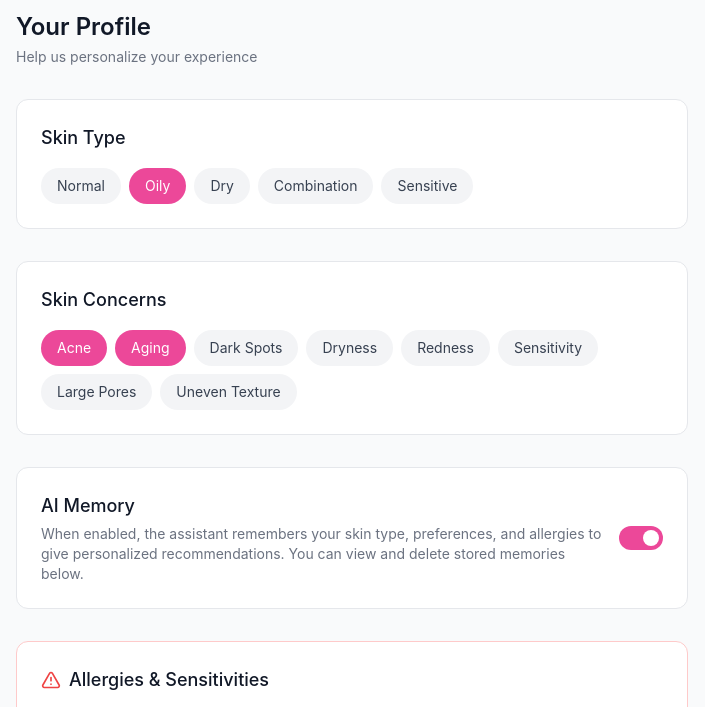
Test case: UserProfile › shows Save Changes button when concerns are changed
Expected: the text "Save Changes" is not shown
What coordinates should you click on to do the following:
click the button "dryness"
I would click on:
 (350, 348)
Its box is [306,330,393,366].
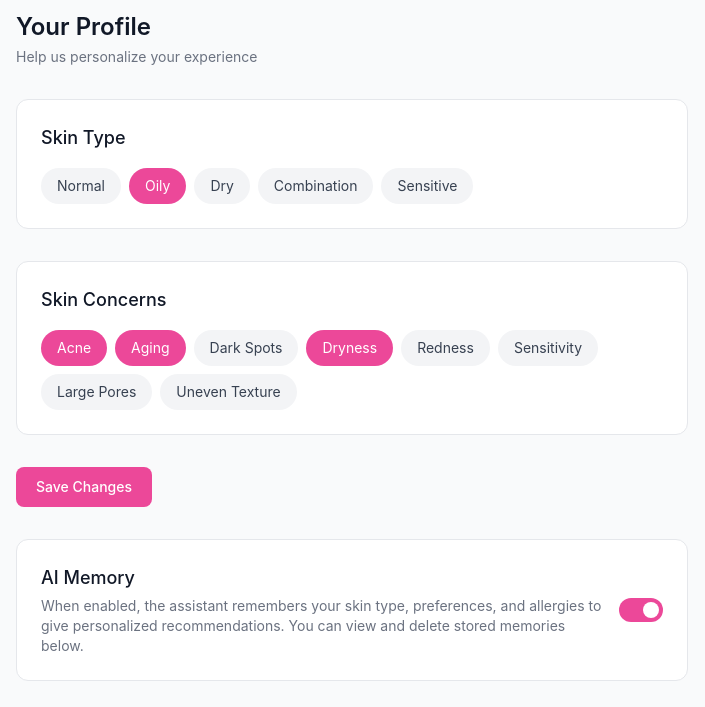
Expected: the button "Save Changes" is shown, [16,467,152,507]
